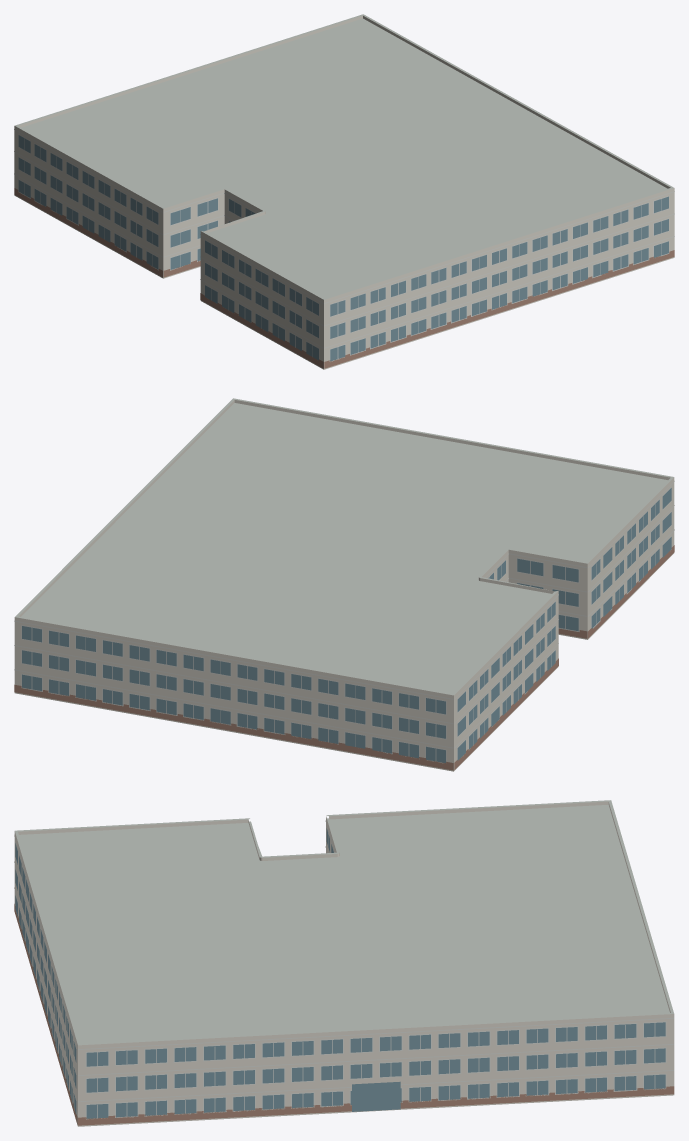
Rendered from public-e34cbb4c-f5fa-4281-b88a-786b39543385.glb.
3 renders of one model, top to bottom at view 1: azimuth 30°, elevation 25°; view 2: azimuth 150°, elevation 25°; view 3: azimuth 270°, elevation 25°, orthographic. The views are drawn at different scales.
Visible parts, largest first — view 1: public-e34cbb4c-f5fa-4281-b88a-786b39543385; view 2: public-e34cbb4c-f5fa-4281-b88a-786b39543385; view 3: public-e34cbb4c-f5fa-4281-b88a-786b39543385.
Boxes of the visible parts, x1,y1,x2,y2 form: public-e34cbb4c-f5fa-4281-b88a-786b39543385: [14, 14, 674, 369]; public-e34cbb4c-f5fa-4281-b88a-786b39543385: [14, 398, 674, 771]; public-e34cbb4c-f5fa-4281-b88a-786b39543385: [14, 800, 674, 1126].
Bounding box in the file's own units: 59.2 × 9.15 × 67.28.
